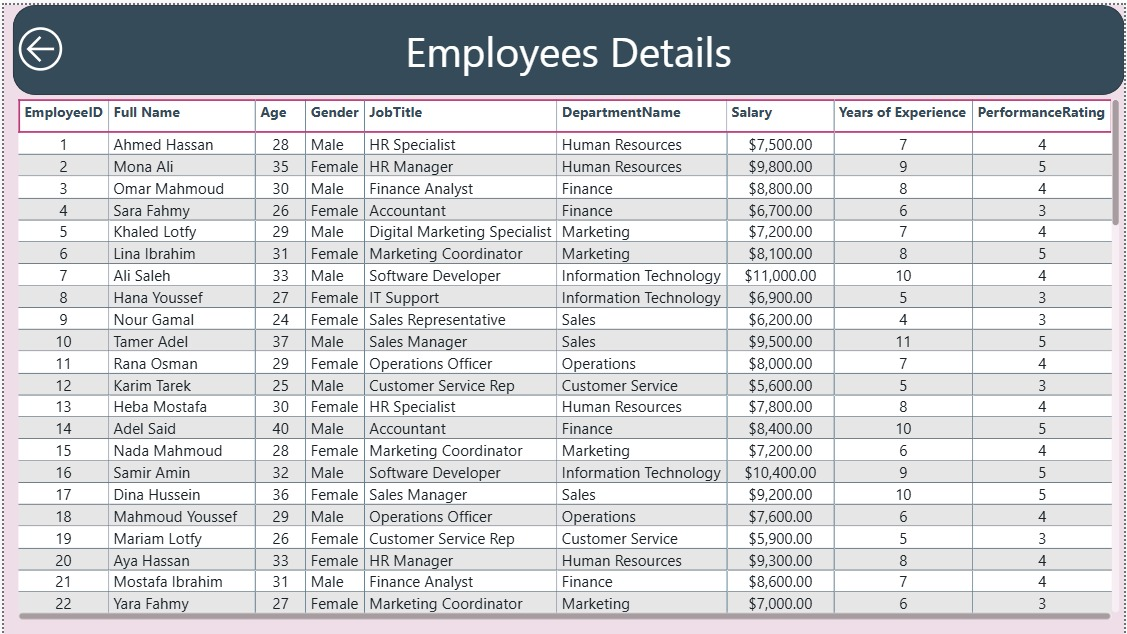

The page's visual inventory and layout, read from the dashboard file:
{"tool":"powerbi","page":{"name":"Employees Details","canvas":[1280,720],"ordinal":2},"visuals":[{"type":"shape","box":[9.6,0,1270.7,102.9],"z":0},{"type":"tableEx","fields":{"Values":["Employees.EmployeeID","Employees.Full Name","Employees.Age","Employees.Gender","Jobs.JobTitle","Departments.DepartmentName","Employees.Salary","Employees.Years of Experience","Employees.PerformanceRating"]},"box":[10,103.3,1270,605],"z":1000},{"type":"actionButton","box":[10,18.9,128.9,63.3],"z":2000}]}

Visuals, with their boxes in screenshot pixels (x1, y1, x2, y2), scaled from the page's 1280x720 canvas onto the 1127x634 screenshot:
shape: [8,0,1126,91]
tableEx - Employees.EmployeeID x Employees.Full Name: [9,91,1126,624]
actionButton: [9,17,122,72]
